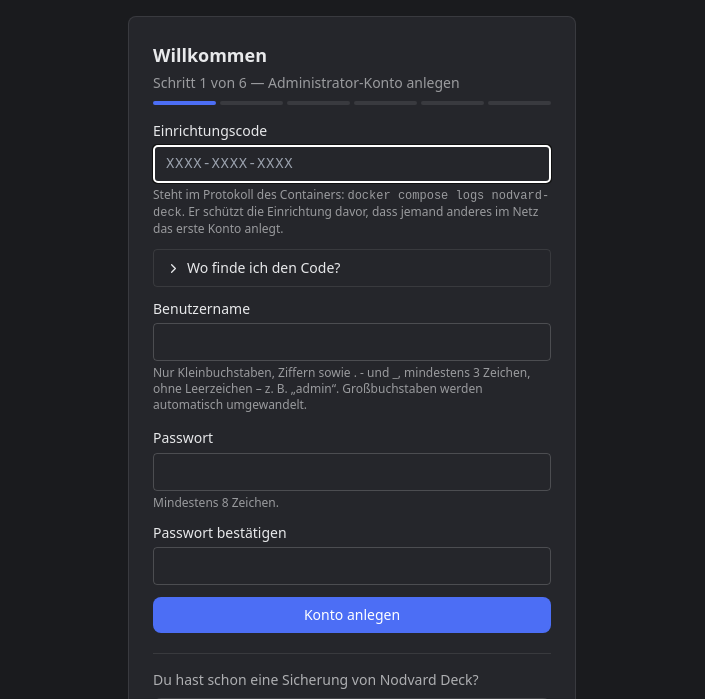
Test: SetupPage › Schritt Zeitzone › ist mit der Zone des Geräts vorbelegt und speichert sie über die Einstellungen
This screenshot has width=705, height=699.
Check: the heading "Willkommen" is shown, box [153,43,267,67]
Type "ABCD-EFGH-JKMN" into the 1st field at (352, 164), box [153,145,551,183]
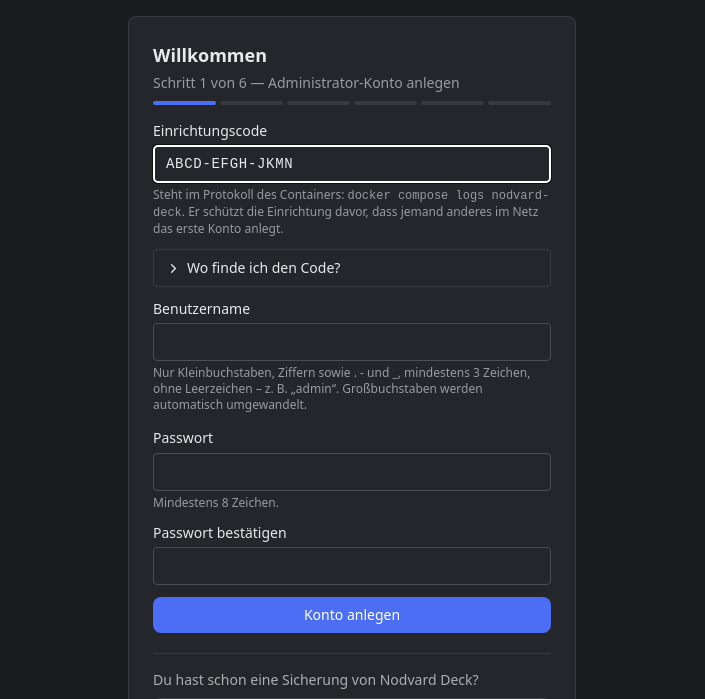
Type "nico" into the field labelled "Benutzername" at (352, 342), box [153,323,551,361]
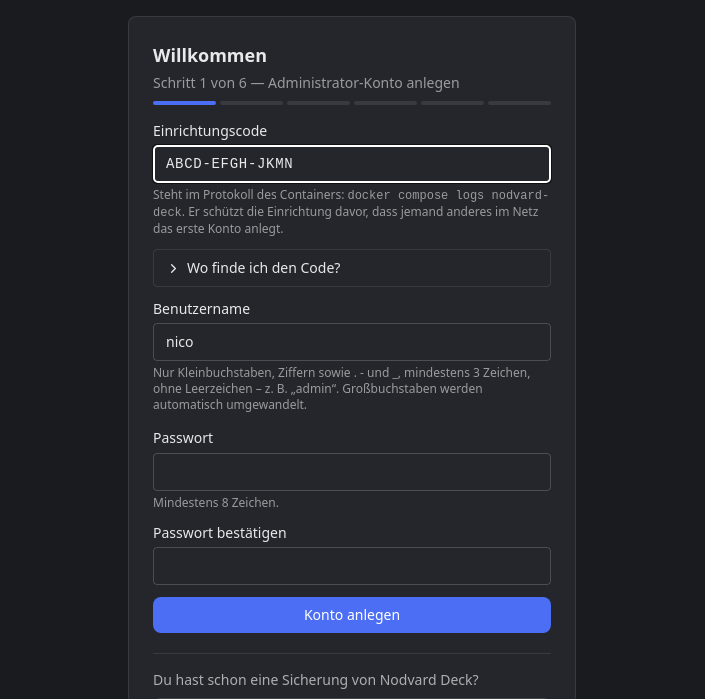
Type "correct-horse-battery" into the password field labelled "Passwort" at (352, 472), box [153,453,551,491]
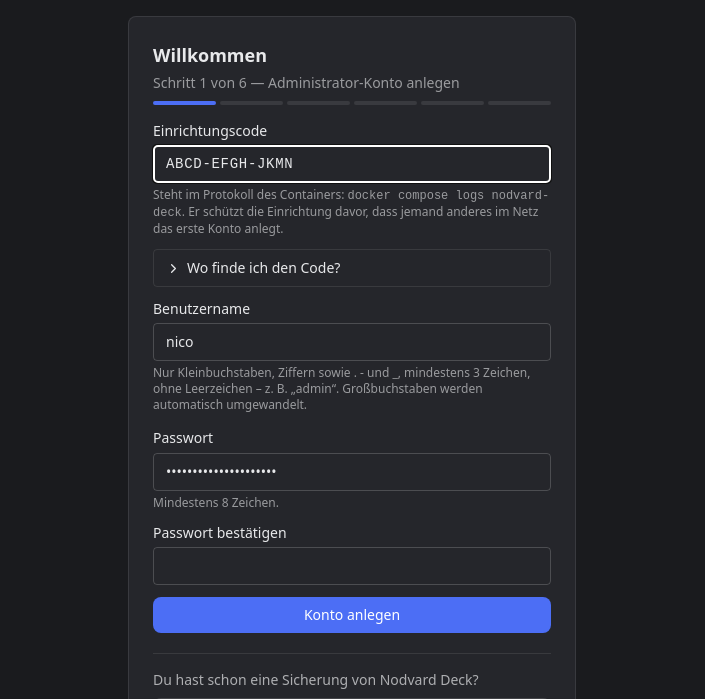
Type "correct-horse-battery" into the password field labelled "Passwort bestätigen" at (352, 566), box [153,547,551,585]
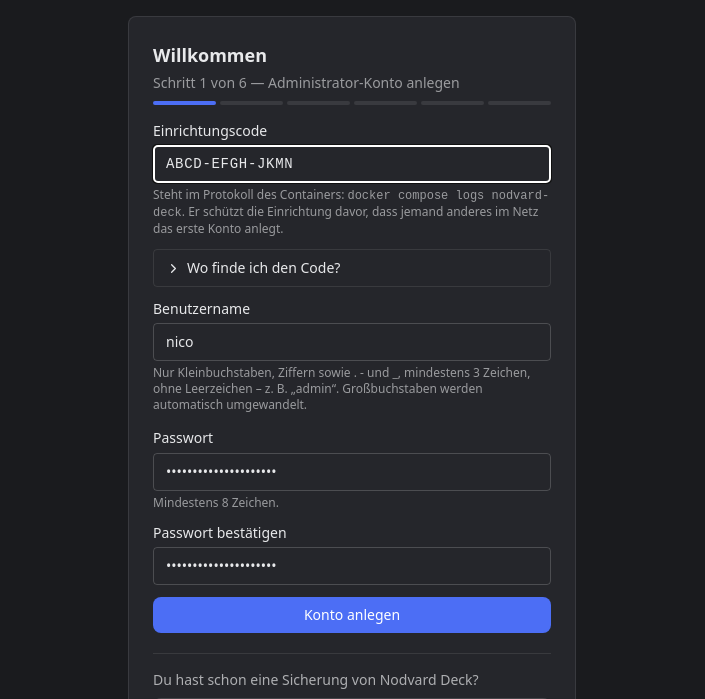
Click the button "Konto anlegen" at (352, 615), box [153,597,551,633]
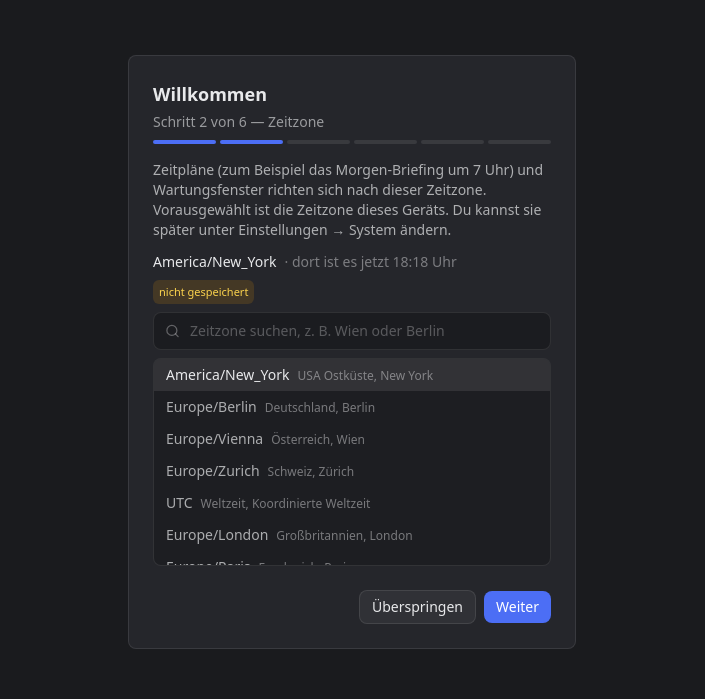
Check: the text "Schritt 2 von 6 — Zeitzone" is shown, box [153,112,324,131]
Check: the option that starts with "America/New_York" is shown, box [154,359,550,391]
Check: the text "Vorausgewählt ist die Zeitzone dieses Geräts" is shown, box [153,200,449,219]
Click the button "Weiter" at (518, 607), box [484,591,551,623]
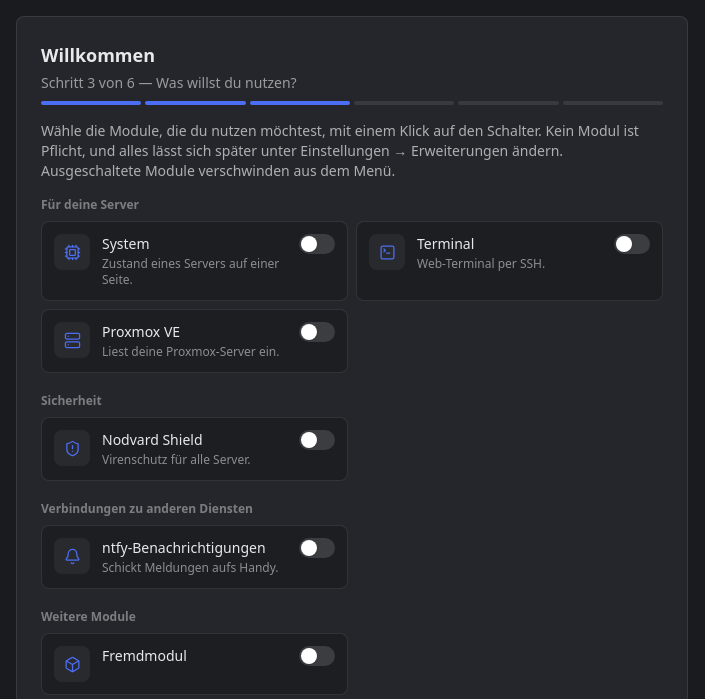
Check: the text "Schritt 3 von 6 — Was willst du nutzen?" is shown, box [41,73,297,92]
